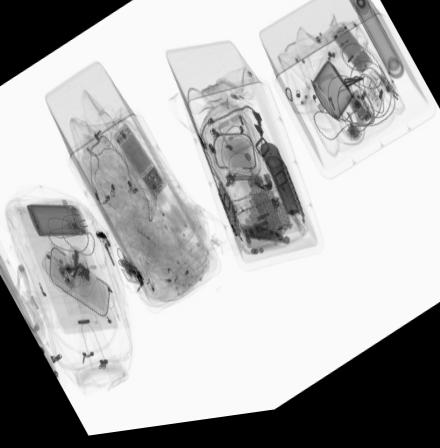Lighter: (133, 228, 155, 256)
